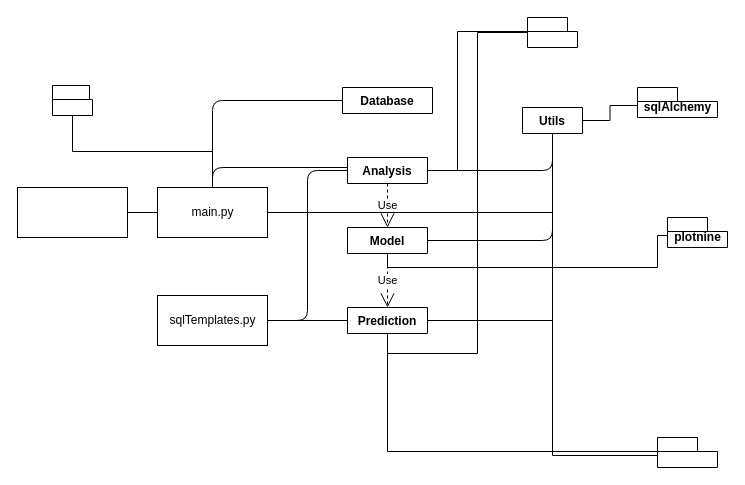
This 745x485 diagram has some shape labels left out. The shapes that lost their labels are listed below. From the top down, each one's box as (x1, y1, x2, y2) in pixels, then its label:
(526, 16, 578, 48): jinja2
(52, 84, 92, 116): time
(16, 186, 128, 238): constants.py
(656, 436, 718, 468): pandas
